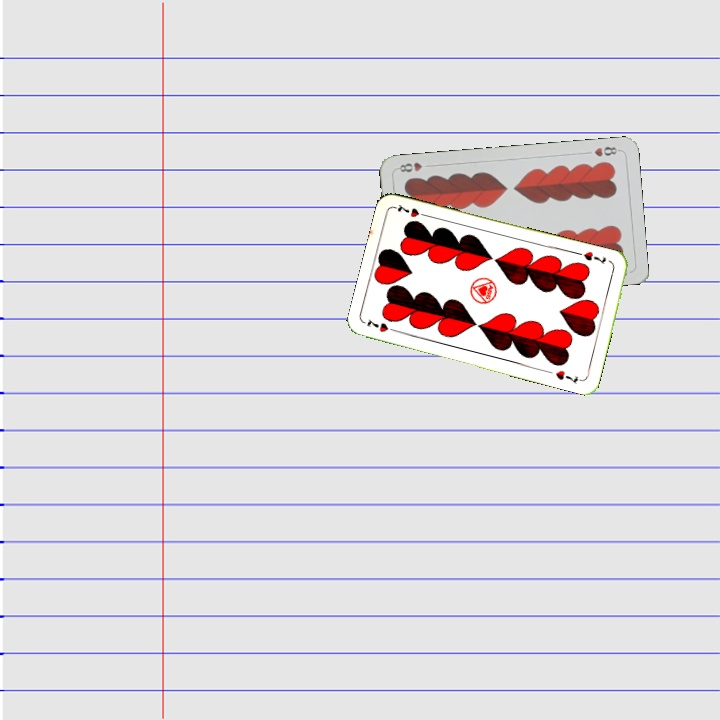H7: (363, 315, 401, 335), (579, 247, 609, 266)
H8: (590, 143, 622, 159)
